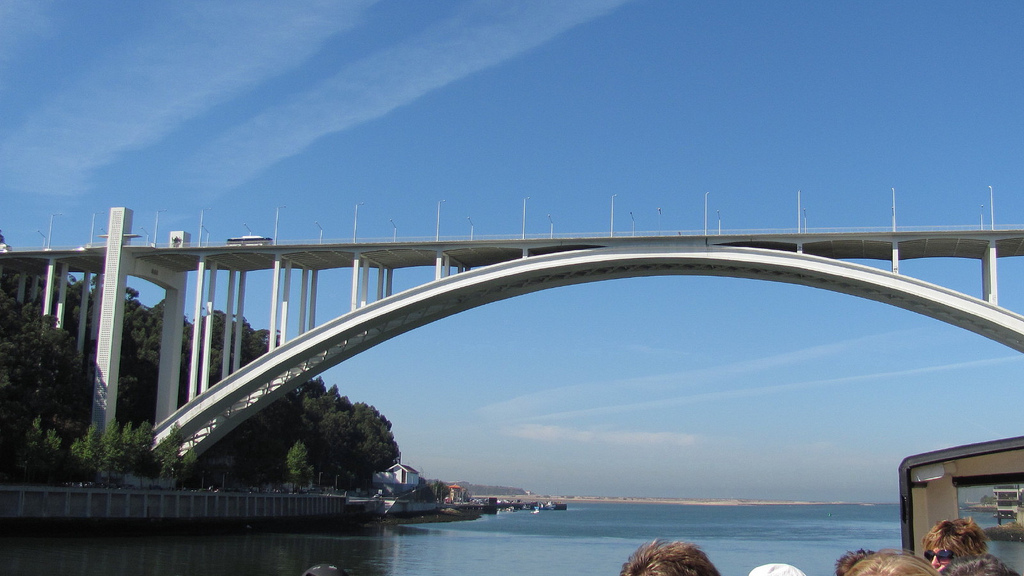arrabida: (0, 206, 1023, 491)
